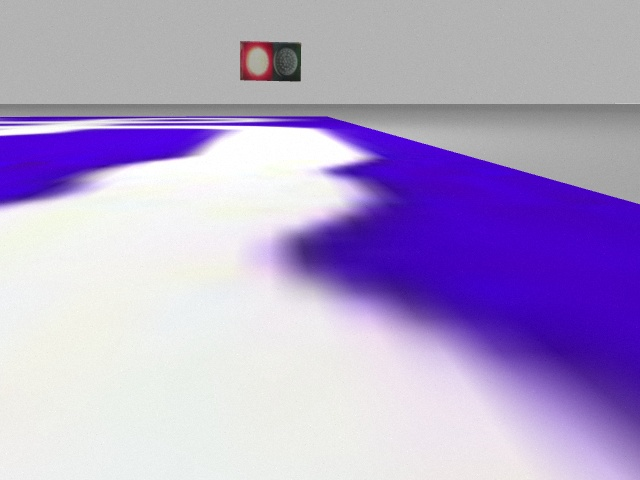red: (241, 42, 273, 78)
